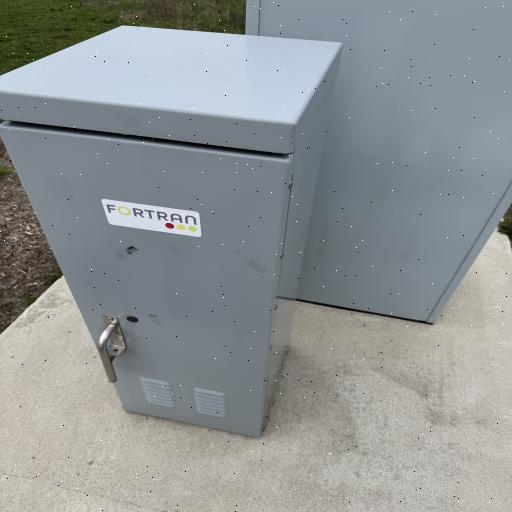Electrical Box: (0, 24, 342, 436)
